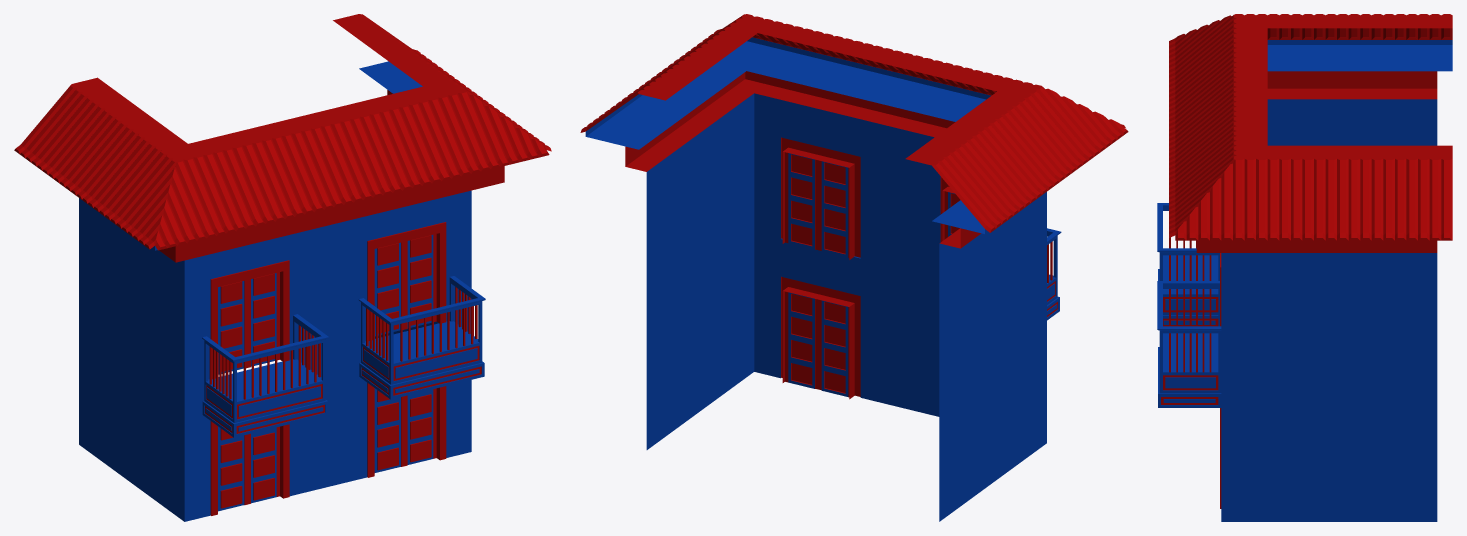
Rendered from House06.fbx.
The picture shows the model from 3 angles, left to right: view 1: azimuth 30°, elevation 25°; view 2: azimuth 150°, elevation 25°; view 3: azimuth 270°, elevation 25°; orthographic projection. The views are drawn at different scales.
Parts seen in each view (by area): view 1: Balcony10, Balcony11, WallSecondFloor3M8, RoofCorner13, WallSecondFloor3M7, Roof3M25, Roof3M26, Roof3M27, WallSecondFloor3M12, WallSecondFloor3M9, Roof3M30, Roof3M31 (+22 smaller); view 2: WallSecondFloor3M7, WallSecondFloor3M8, Roof3M31, WallSecondFloor3M12, WallSecondFloor3M9, WallSecondFloor3M13, WallSecondFloor3M15, WallSecondFloor3M16, WallSecondFloor3M14, Roof3M30, BigDoor11, BigDoor12 (+21 smaller); view 3: WallSecondFloor3M14, WallSecondFloor3M13, WallSecondFloor3M16, WallSecondFloor3M15, Roof3M28, Roof3M29, RoofCorner14, Balcony11, Roof3M30, Roof3M31, WallCorner25, WallSecondFloor3M11 (+12 smaller).
Boxes of the visible parts, x1,y1,x2,y2 form: Balcony10: (202, 314, 328, 437); Balcony11: (358, 276, 485, 399); WallSecondFloor3M8: (289, 216, 367, 359); RoofCorner13: (105, 144, 236, 250); WallSecondFloor3M7: (289, 342, 367, 496); Roof3M25: (188, 125, 314, 231); Roof3M26: (267, 105, 392, 211); Roof3M27: (345, 86, 470, 192); WallSecondFloor3M12: (79, 308, 124, 477); WallSecondFloor3M9: (124, 341, 169, 510); Roof3M30: (59, 111, 187, 216); Roof3M31: (14, 77, 142, 183); WallSecondFloor3M7: (860, 258, 939, 416); WallSecondFloor3M8: (860, 119, 940, 277); Roof3M31: (905, 125, 1036, 233); WallSecondFloor3M12: (939, 349, 985, 521); WallSecondFloor3M9: (985, 315, 1031, 487); WallSecondFloor3M13: (692, 244, 738, 416); WallSecondFloor3M15: (692, 104, 738, 277); WallSecondFloor3M16: (646, 138, 692, 310); WallSecondFloor3M14: (646, 278, 692, 449); Roof3M30: (951, 91, 1082, 198); BigDoor11: (785, 152, 849, 257); BigDoor12: (785, 291, 849, 397); WallSecondFloor3M14: (1344, 382, 1437, 521); WallSecondFloor3M13: (1252, 382, 1344, 521); WallSecondFloor3M16: (1344, 253, 1437, 382); WallSecondFloor3M15: (1252, 253, 1344, 382); Roof3M28: (1267, 145, 1360, 240); Roof3M29: (1360, 145, 1452, 240); RoofCorner14: (1169, 145, 1267, 240); Balcony11: (1157, 281, 1221, 407); Roof3M30: (1267, 14, 1360, 71); Roof3M31: (1360, 14, 1452, 71); WallCorner25: (1221, 382, 1252, 521); WallSecondFloor3M11: (1344, 99, 1437, 145).
Bounding box in the file's own units: 1540 × 1300 × 958.
